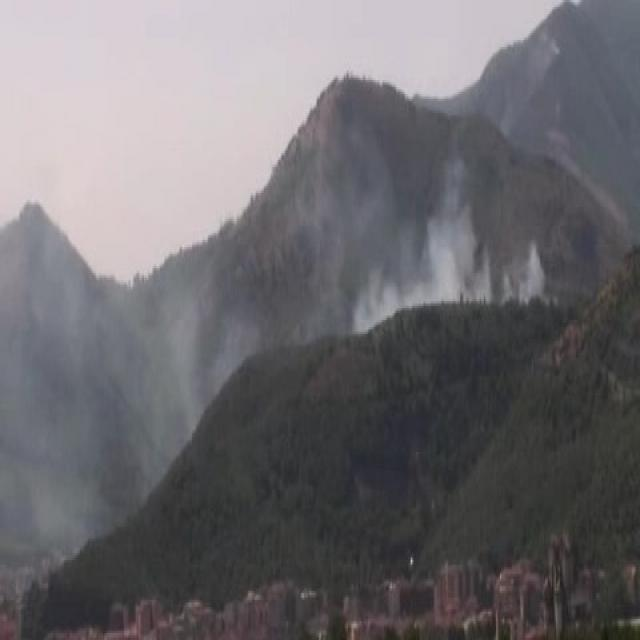smoke: (44, 279, 222, 433), (358, 195, 547, 329)
